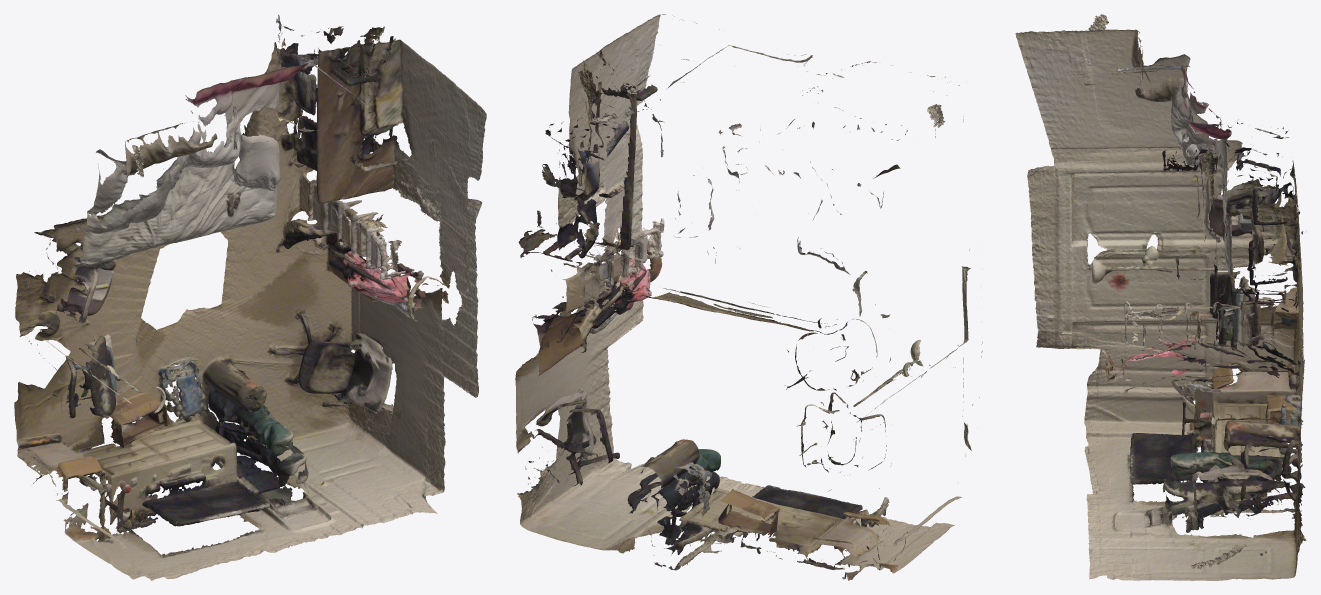
3 views of the same model, side by side, from view 1: azimuth 30°, elevation 25°; view 2: azimuth 150°, elevation 25°; view 3: azimuth 270°, elevation 25° (orthographic). The views are drawn at different scales.
Parts seen in each view (by area): view 1: world; view 2: world; view 3: world.
Boxes of the visible parts, x1,y1,x2,y2 form: world: (14, 14, 486, 580); world: (515, 14, 982, 580); world: (1015, 14, 1306, 580).
Size of the model in its own units: 3.65 by 4.14 by 2.52.
